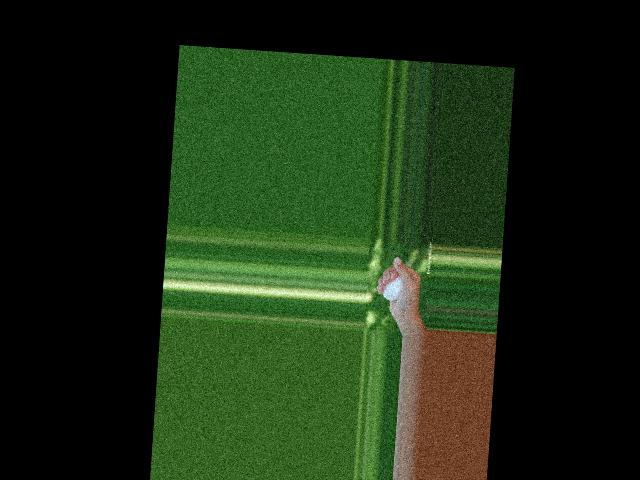egg: (382, 273, 402, 301)
